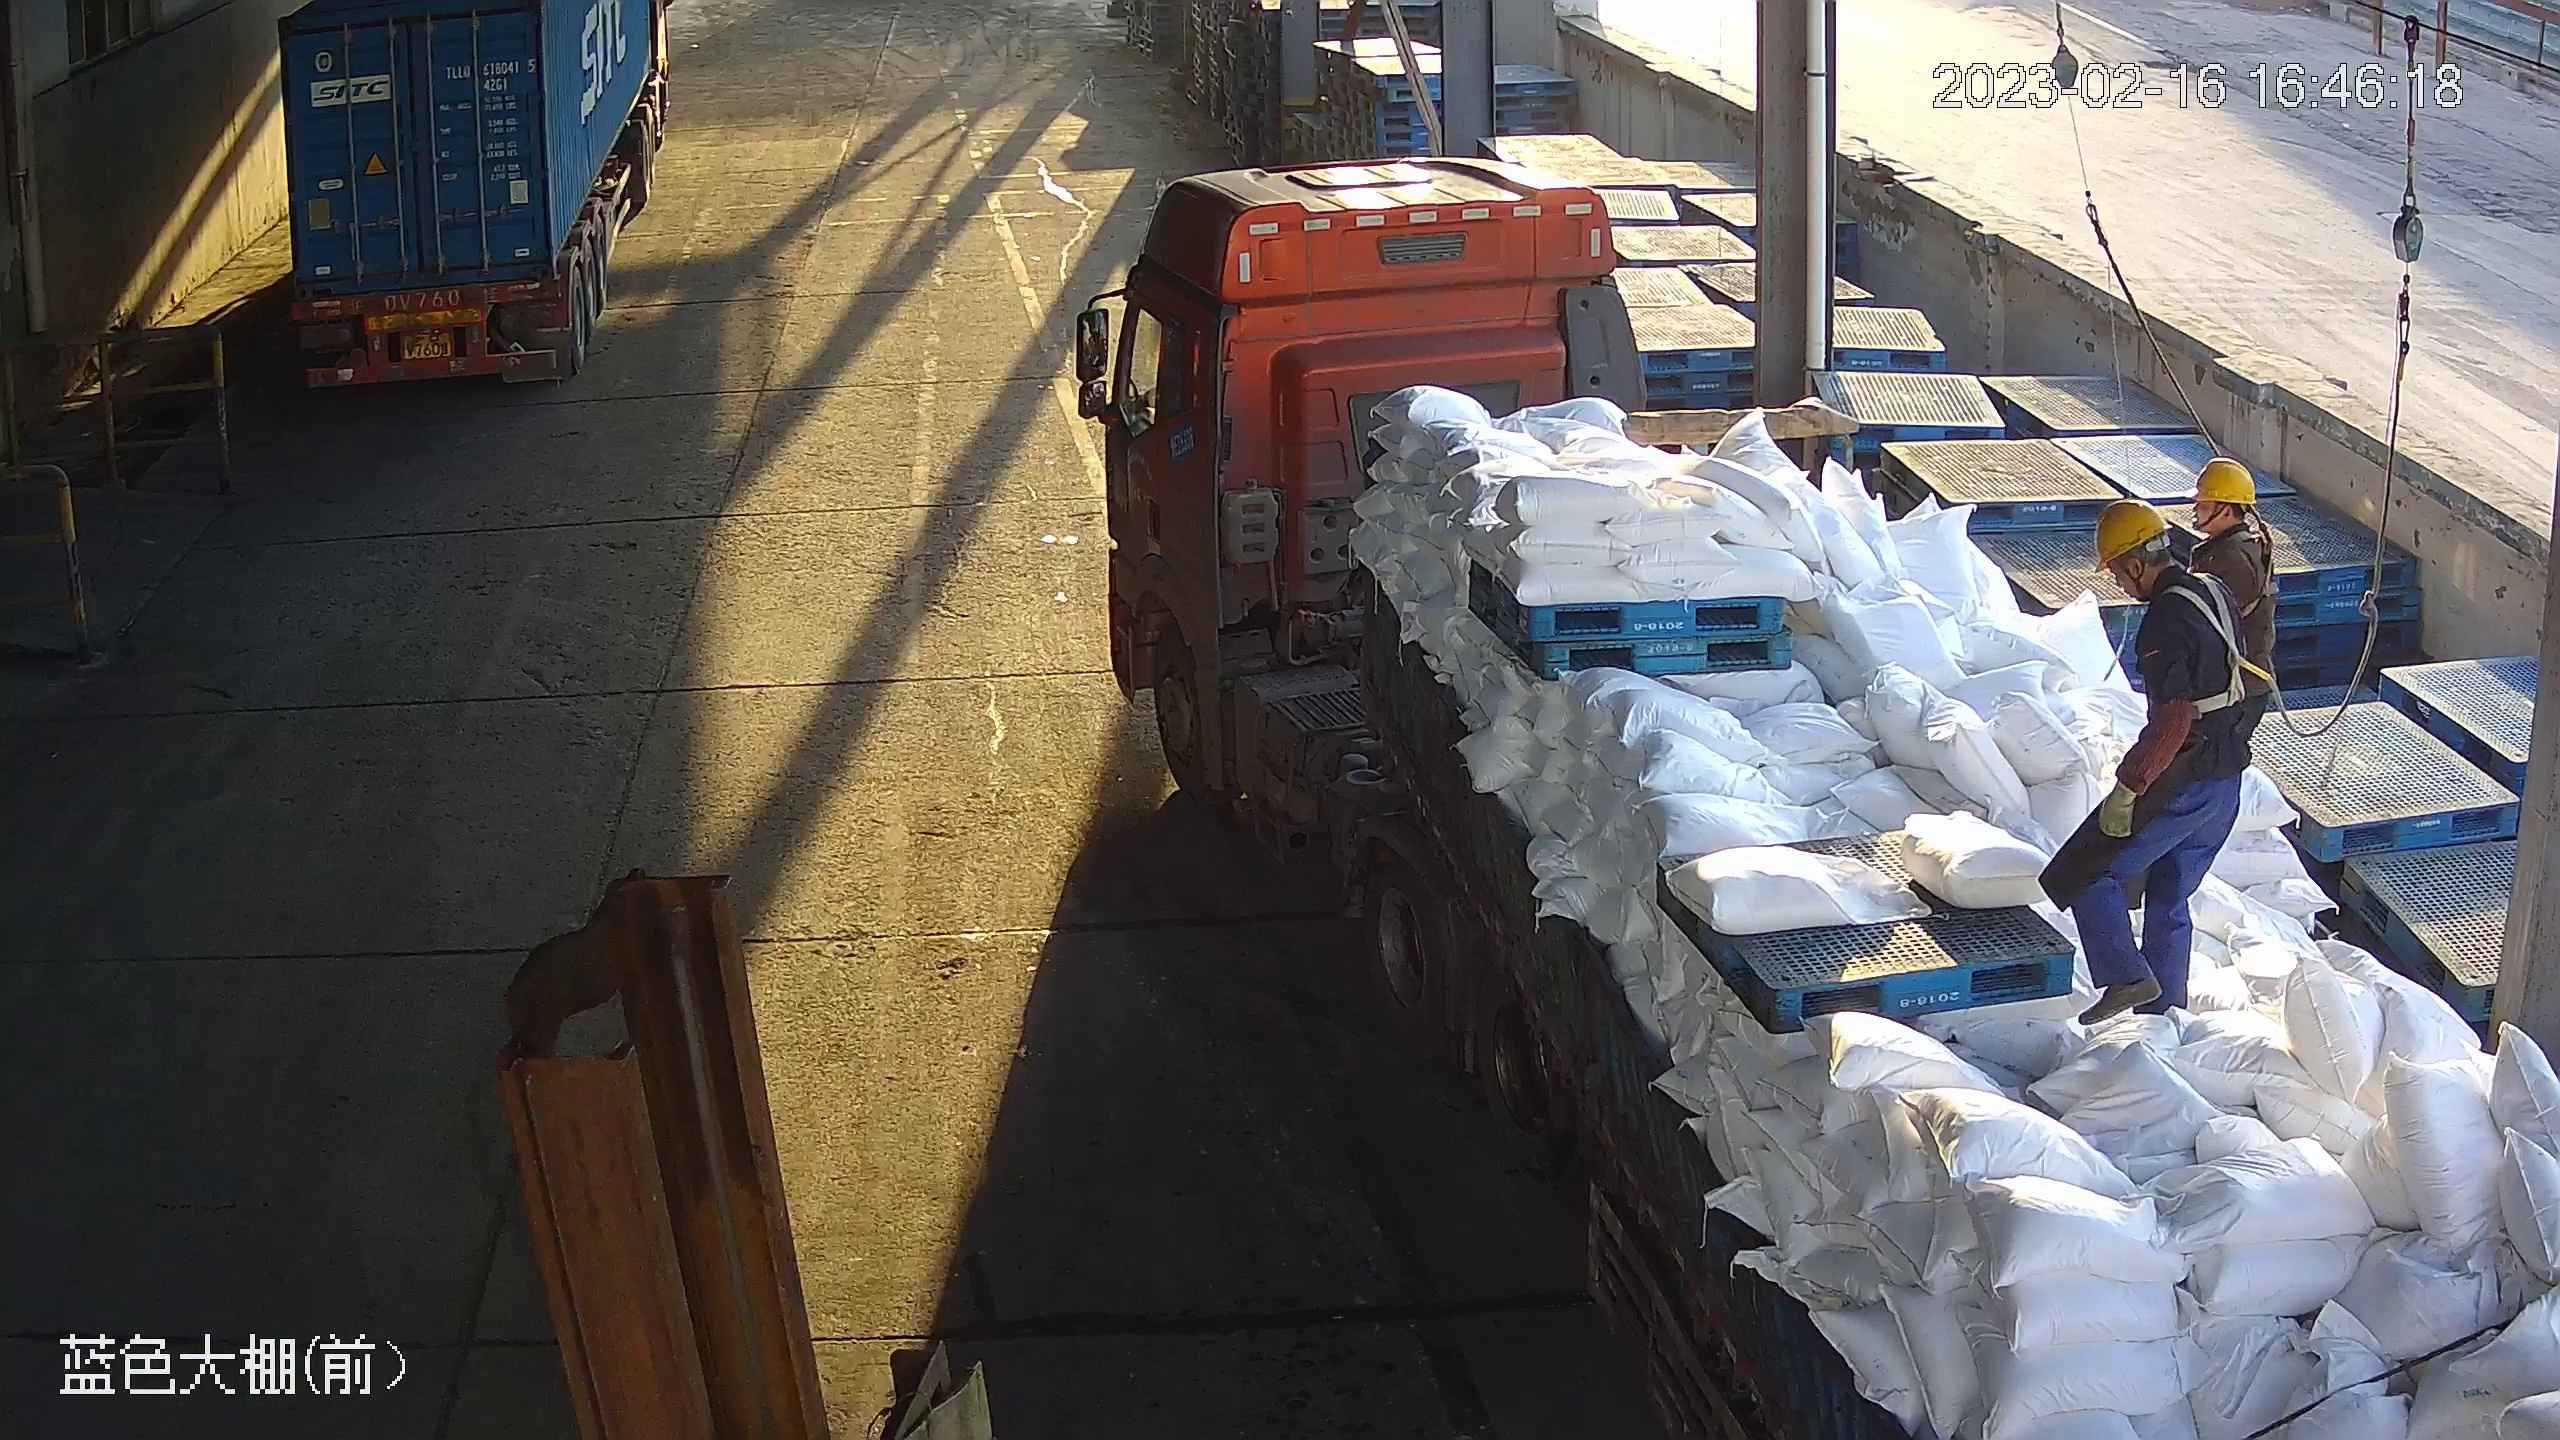belt: (2172, 569, 2281, 726), (2215, 521, 2284, 609)
head: (2084, 499, 2246, 659), (2183, 452, 2274, 597)
helmet: (2095, 501, 2169, 575), (2193, 456, 2259, 511)
people: (2038, 495, 2260, 1016)
truck: (1069, 154, 2560, 1440), (274, 1, 676, 395)
